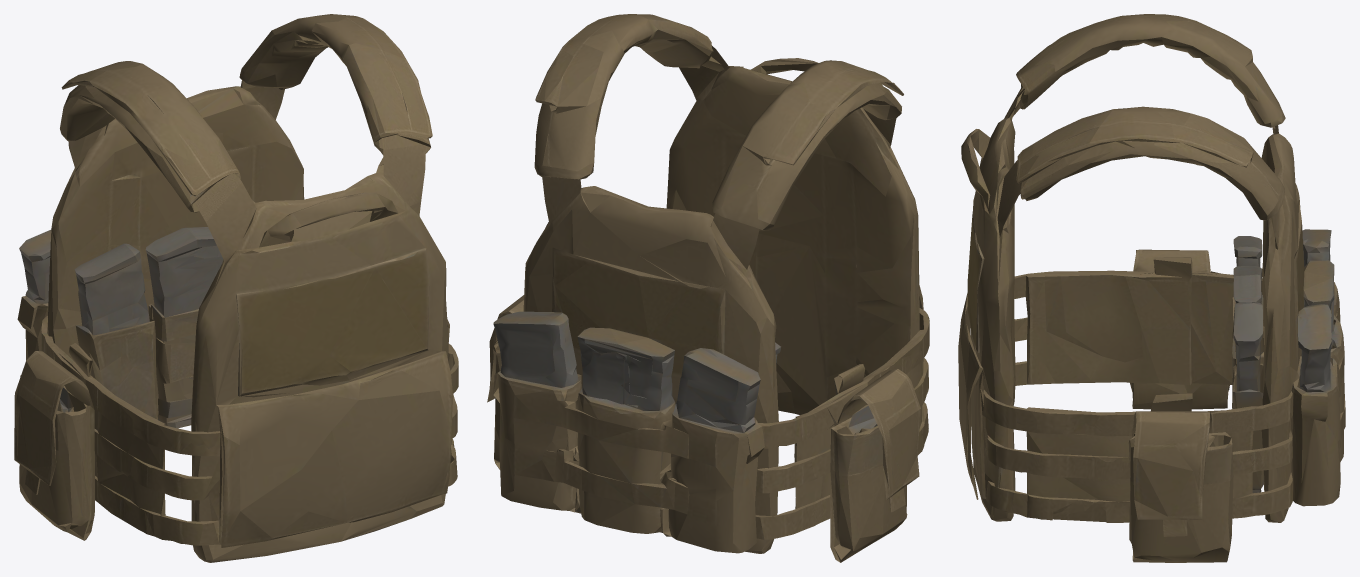
Rendered from colete-pm.glb.
The picture shows the model from 3 angles, left to right: view 1: azimuth 30°, elevation 25°; view 2: azimuth 150°, elevation 25°; view 3: azimuth 270°, elevation 25°; orthographic projection. The views are drawn at different scales.
Visible parts, largest first — view 1: output_unwrapped; view 2: output_unwrapped; view 3: output_unwrapped.
Part boxes in pixels (box(x1,y1,x2,y2)): output_unwrapped: box(14, 14, 458, 562); output_unwrapped: box(487, 14, 929, 562); output_unwrapped: box(958, 14, 1345, 562).
Size of the model in its own units: 1.8 by 1.9 by 1.59.
1 material, 1 textured.
